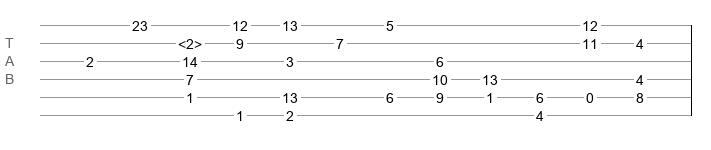0: (586, 90, 594, 100)
1: (186, 90, 194, 100), (236, 108, 244, 118), (486, 90, 494, 100)
10: (432, 72, 448, 82)
11: (582, 36, 598, 46)
12: (232, 18, 248, 28), (582, 18, 598, 28)
13: (282, 18, 298, 28), (282, 90, 298, 100), (482, 72, 498, 82)
14: (182, 54, 198, 64)
2: (86, 54, 94, 64), (286, 108, 294, 118)
23: (132, 18, 148, 28)
3: (286, 54, 294, 64)
4: (536, 108, 544, 118), (636, 72, 644, 82), (636, 36, 644, 46)
5: (386, 18, 394, 28)
6: (386, 90, 394, 100), (436, 54, 444, 64), (536, 90, 544, 100)
7: (186, 72, 194, 82), (336, 36, 344, 46)
8: (636, 90, 644, 100)
9: (236, 36, 244, 46), (436, 90, 444, 100)
harmonic: (178, 36, 202, 46)
